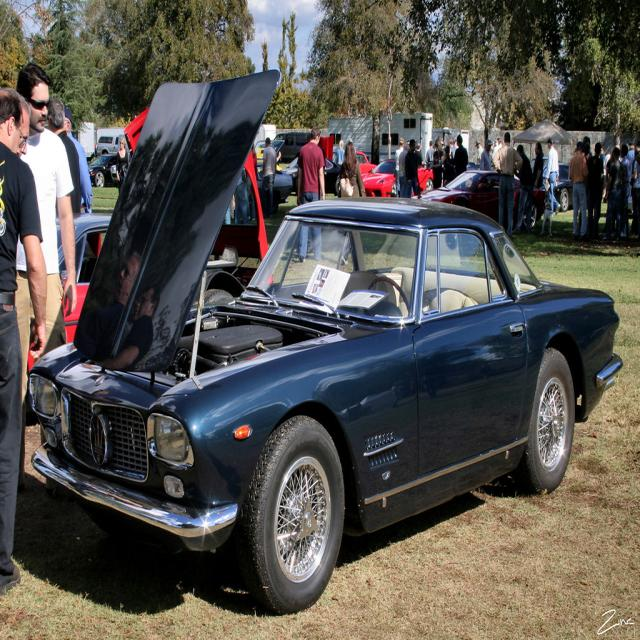car: (23, 64, 628, 612)
